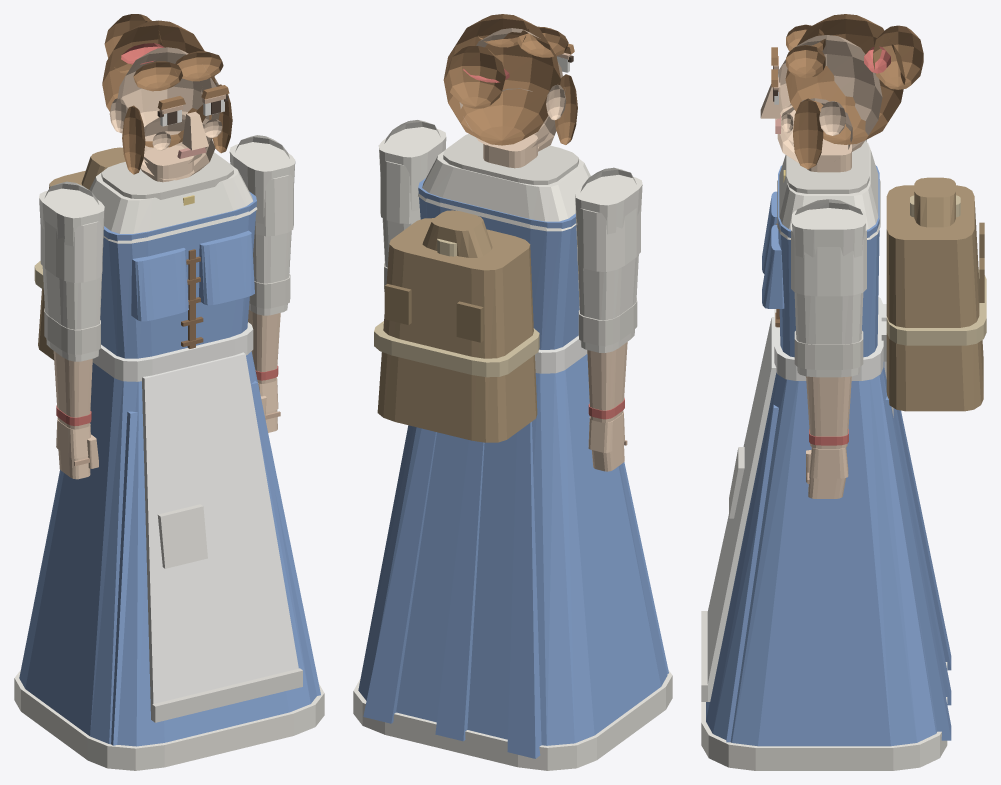
File: female.glb
3 views of the same model, side by side, from view 1: azimuth 30°, elevation 25°; view 2: azimuth 150°, elevation 25°; view 3: azimuth 270°, elevation 25° (orthographic). The views are drawn at different scales.
Parts seen in each view (by area): view 1: Apron, Skirt, Bodice, Skirt.Petticoat, Blouse, Arm.R, Arm.L, Bodice.Bust.R, Bodice.Bust.L, Apron.Band, Arm.R.Puff, Head.Hair (+24 smaller); view 2: Skirt, Load, Skirt.Fold#3, Head.Hair, Bodice, Skirt.Petticoat, Skirt.Fold#4, Skirt.Fold#5, Blouse, Arm.R, Load.Rope, Blouse.Frill (+18 smaller); view 3: Skirt, Load, Arm.L, Skirt.Petticoat, Apron, Head.Hair, Head, Skirt.Fold#5, Bodice, Arm.L.Puff, Arm.L.Lower, Blouse (+21 smaller).
Part boxes in pixels (<box>): Apron: <box>142,352,298,720</box>; Skirt: <box>19,351,316,746</box>; Bodice: <box>100,191,256,358</box>; Skirt.Petticoat: <box>14,670,324,770</box>; Blouse: <box>89,166,257,243</box>; Arm.R: <box>39,188,104,361</box>; Arm.L: <box>229,142,295,315</box>; Bodice.Bust.R: <box>131,248,188,321</box>; Bodice.Bust.L: <box>199,230,254,305</box>; Apron.Band: <box>92,322,253,381</box>; Arm.R.Puff: <box>40,221,102,282</box>; Head.Hair: <box>102,20,215,147</box>; Skirt: <box>358,354,667,745</box>; Load: <box>377,218,537,442</box>; Skirt.Fold#3: <box>507,422,541,758</box>; Head.Hair: <box>443,14,560,145</box>; Bodice: <box>418,178,579,349</box>; Skirt.Petticoat: <box>353,670,672,770</box>; Skirt.Fold#4: <box>435,440,484,741</box>; Skirt.Fold#5: <box>363,428,436,723</box>; Blouse: <box>418,151,590,231</box>; Arm.R: <box>575,175,642,352</box>; Load.Rope: <box>374,321,539,377</box>; Blouse.Frill: <box>443,134,578,184</box>; Skirt: <box>706,362,937,746</box>; Load: <box>886,185,983,411</box>; Arm.L: <box>792,208,865,377</box>; Skirt.Petticoat: <box>701,662,947,770</box>; Apron: <box>707,317,776,701</box>; Head.Hair: <box>785,14,905,144</box>; Head: <box>775,35,882,151</box>; Skirt.Fold#5: <box>885,396,951,740</box>; Bodice: <box>778,165,879,357</box>; Arm.L.Puff: <box>791,223,866,296</box>; Arm.L.Lower: <box>806,376,851,448</box>; Blouse: <box>777,142,880,239</box>.
Size of the model in its own units: 0.606 by 1.72 by 0.617.
